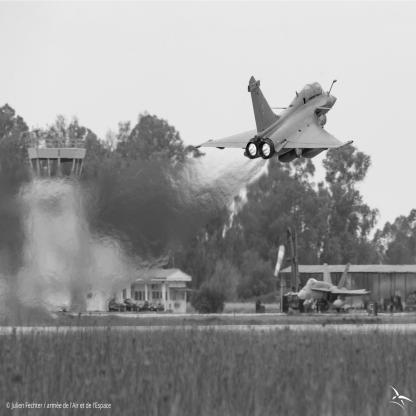F18: (285, 263, 373, 314)
Rafale: (196, 76, 355, 164)
